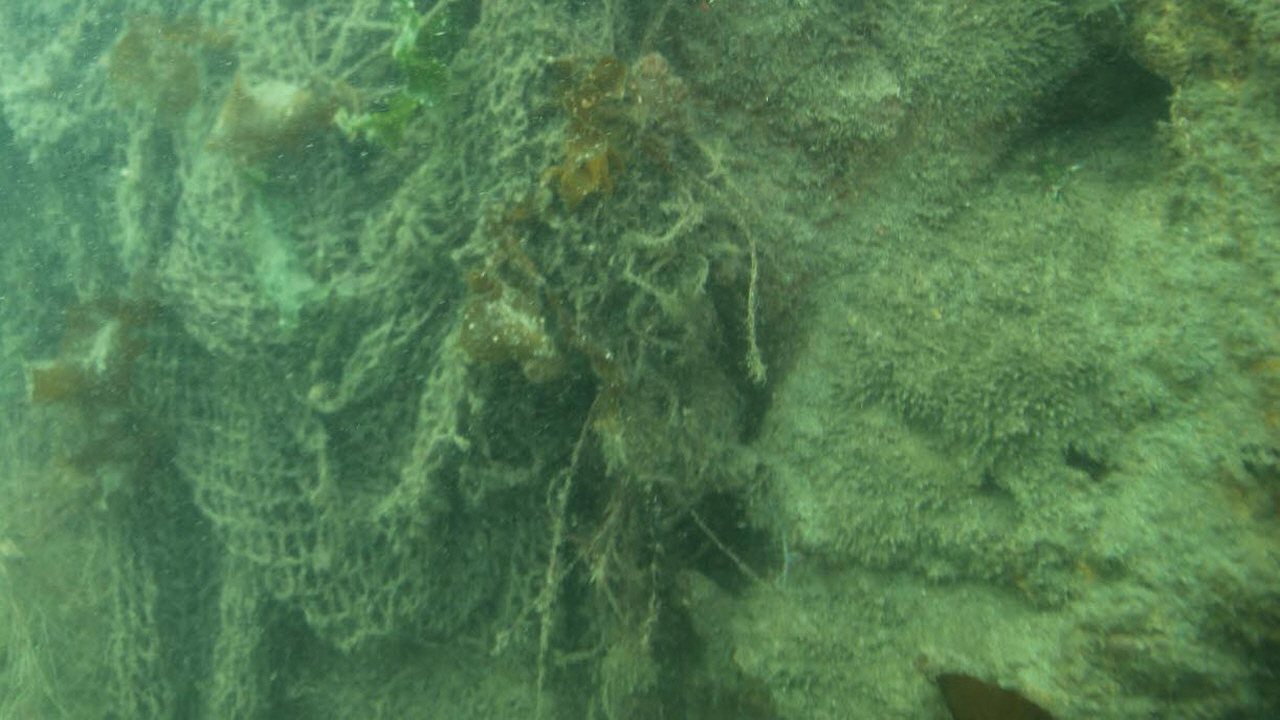fish net: (0, 3, 595, 720)
